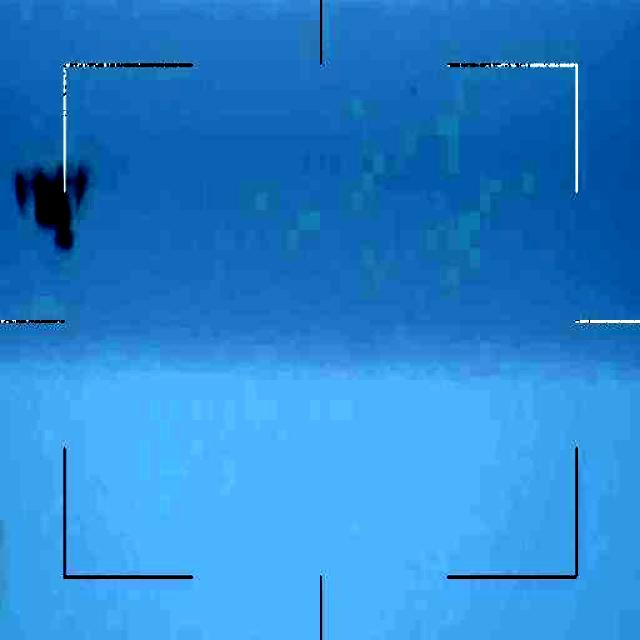bird: (15, 152, 98, 248)
